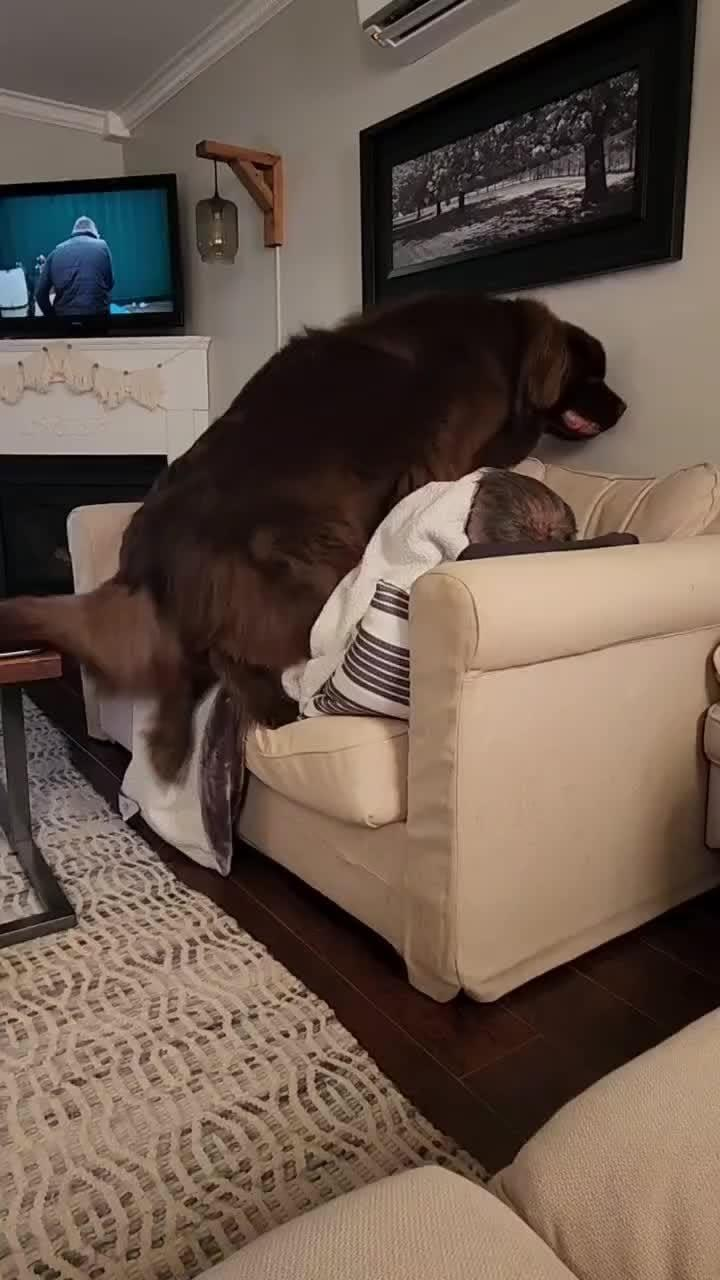adult_dog: (0, 295, 631, 785)
